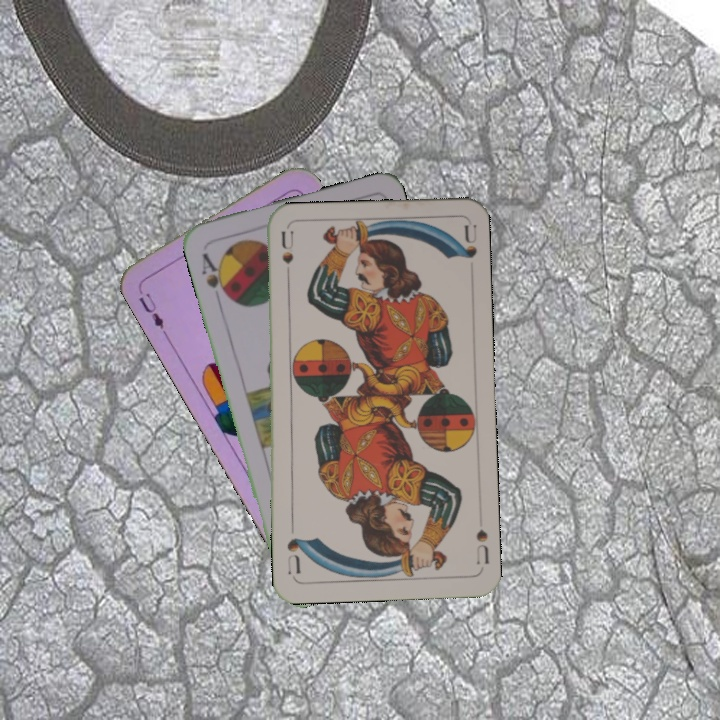EU: (134, 282, 169, 337)
SA: (197, 248, 232, 301)
SU: (277, 228, 296, 287), (472, 526, 491, 571)
